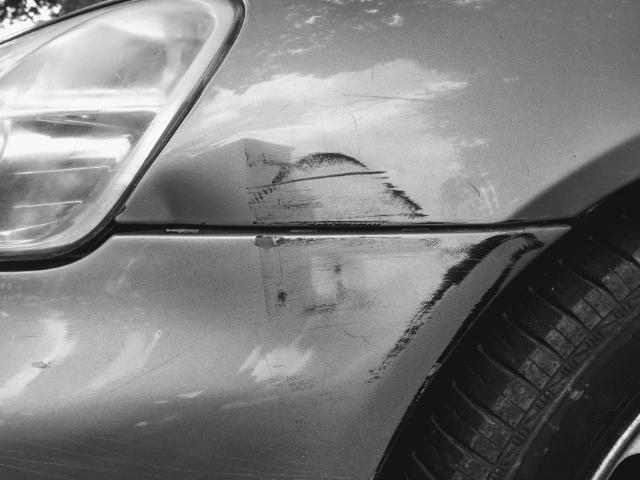Bumper: (24, 224, 564, 431)
Fender: (116, 128, 568, 218)
